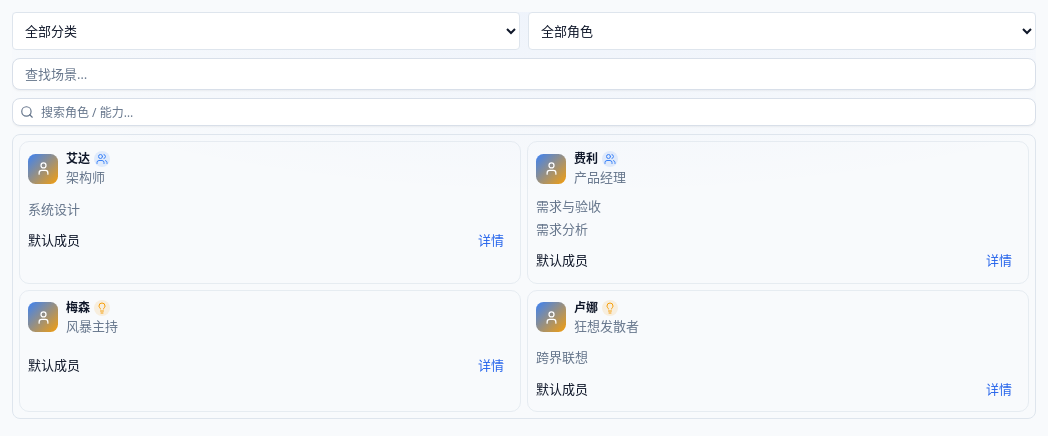
AgentPicker（M16） › 搜索：按能力关键词过滤（跨界联想 → 仅卢娜）
Type "跨界联想" into the field with placeholder "搜索角色 / 能力…" at point(524, 112), box [12, 98, 1036, 126]
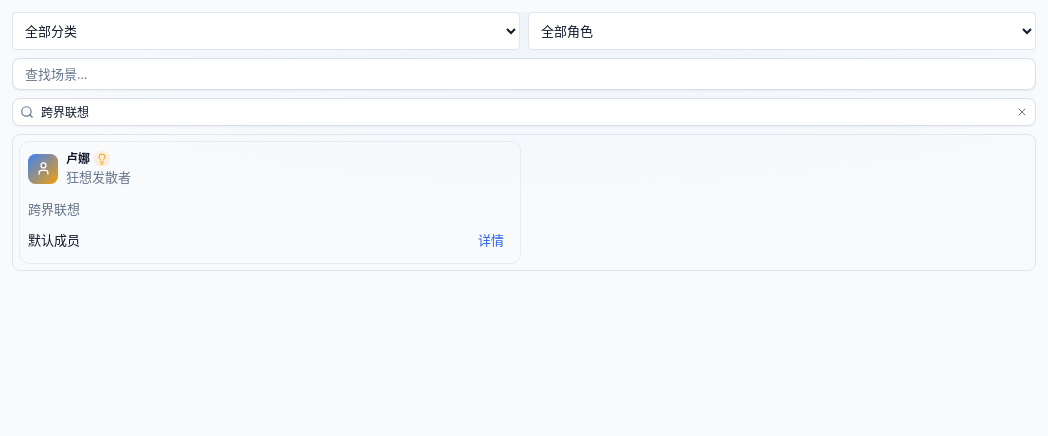
Expected: the button "卢娜 狂想发散者 跨界联想 默认成员 详情" is shown, [19, 141, 521, 264]
Now the button "费利" is gone
Now the button "梅森" is gone
Replace the text in the field with placeholder "搜索角色 / 能力…" with "不存在的角色" at point(524, 112), box [12, 98, 1036, 126]
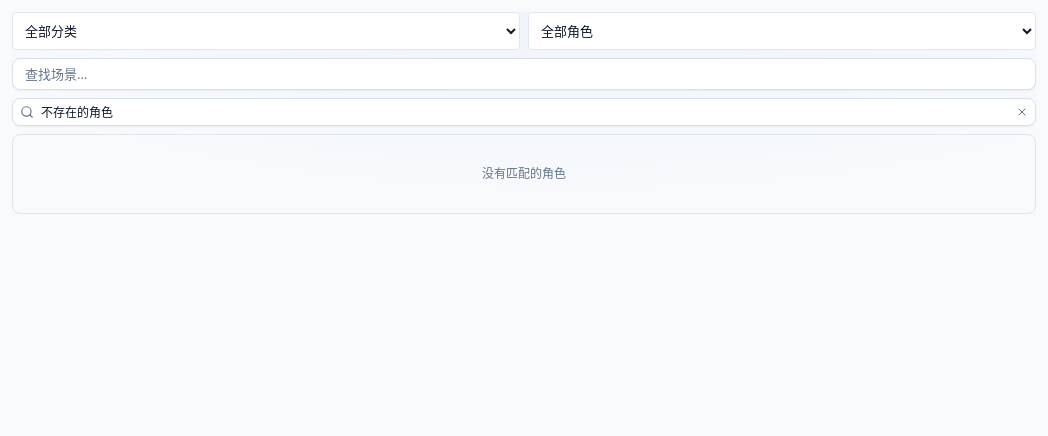
Now the text "没有匹配的角色" is shown, box [482, 165, 566, 182]
